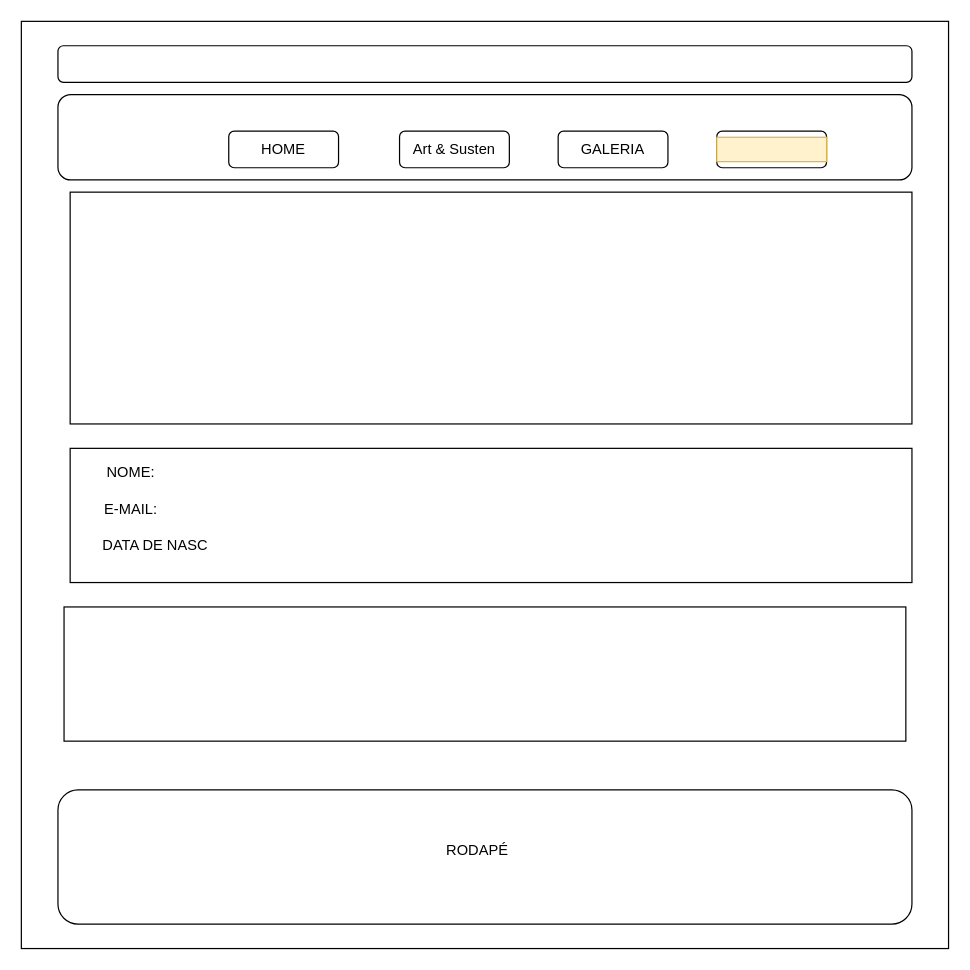
Image size: 970x970. Some labels were removed from this diagram. Each missing label, with the centre of its shape:
CONTATO: pixel 771 149
MENSAGEM: pixel 484 673
